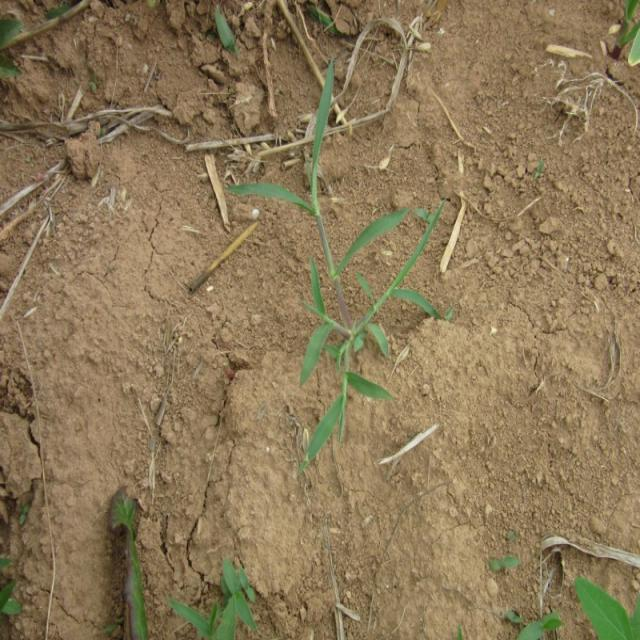bg: (221, 61, 452, 466)
